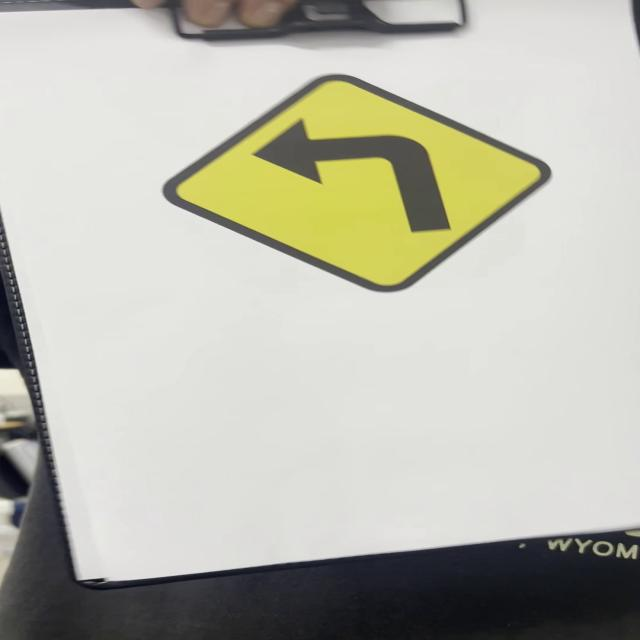left: (173, 73, 560, 293)
